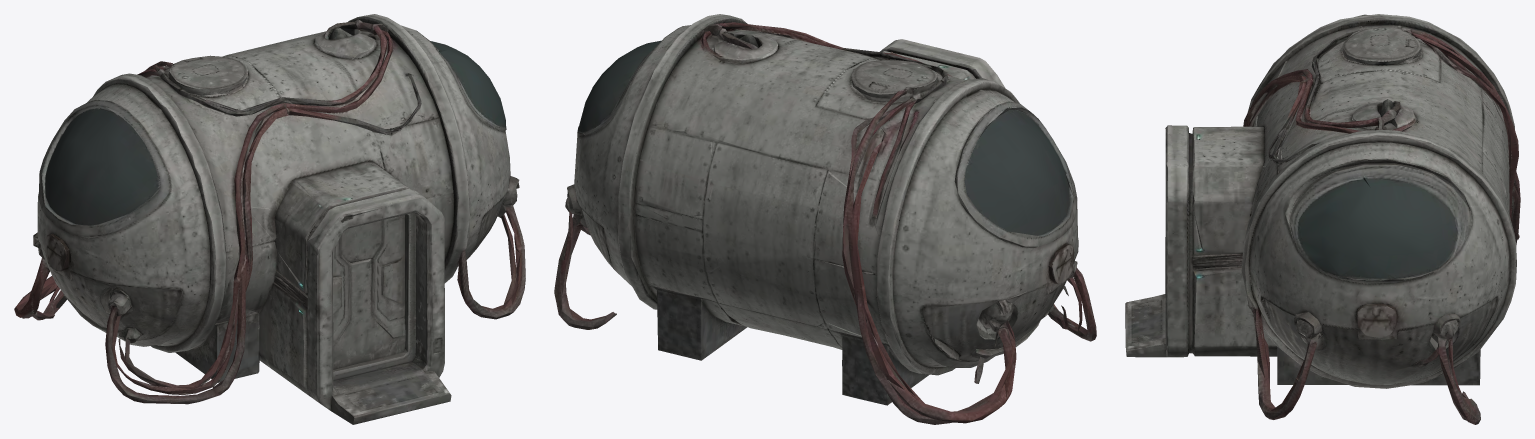
File: struct.housing.glb
3 views of the same model, side by side, from view 1: azimuth 30°, elevation 25°; view 2: azimuth 150°, elevation 25°; view 3: azimuth 270°, elevation 25° (orthographic). The views are drawn at different scales.
Visible parts, largest first — view 1: body; view 2: body; view 3: body.
Part boxes in pixels (<box>): body: <box>14,14,525,424</box>; body: <box>554,14,1096,424</box>; body: <box>1125,14,1520,424</box>.
Size of the model in its own units: 2 by 1.16 by 1.55.
Materials: 1 (1 with a texture image).
